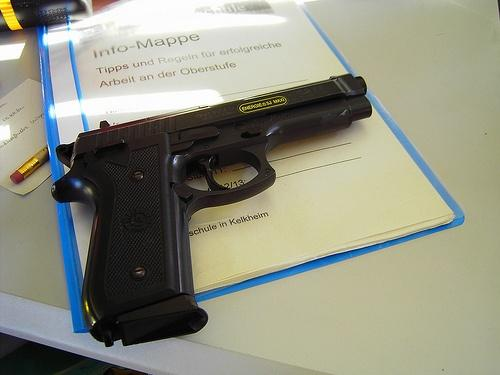gun: (49, 69, 372, 347)
